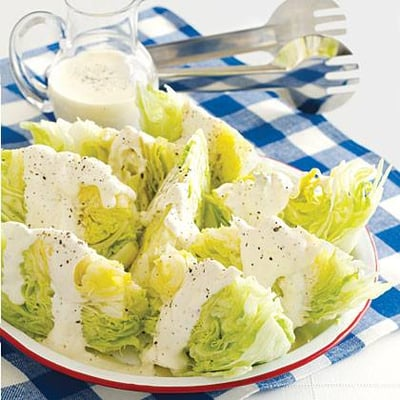curry: (2, 4, 400, 400)
